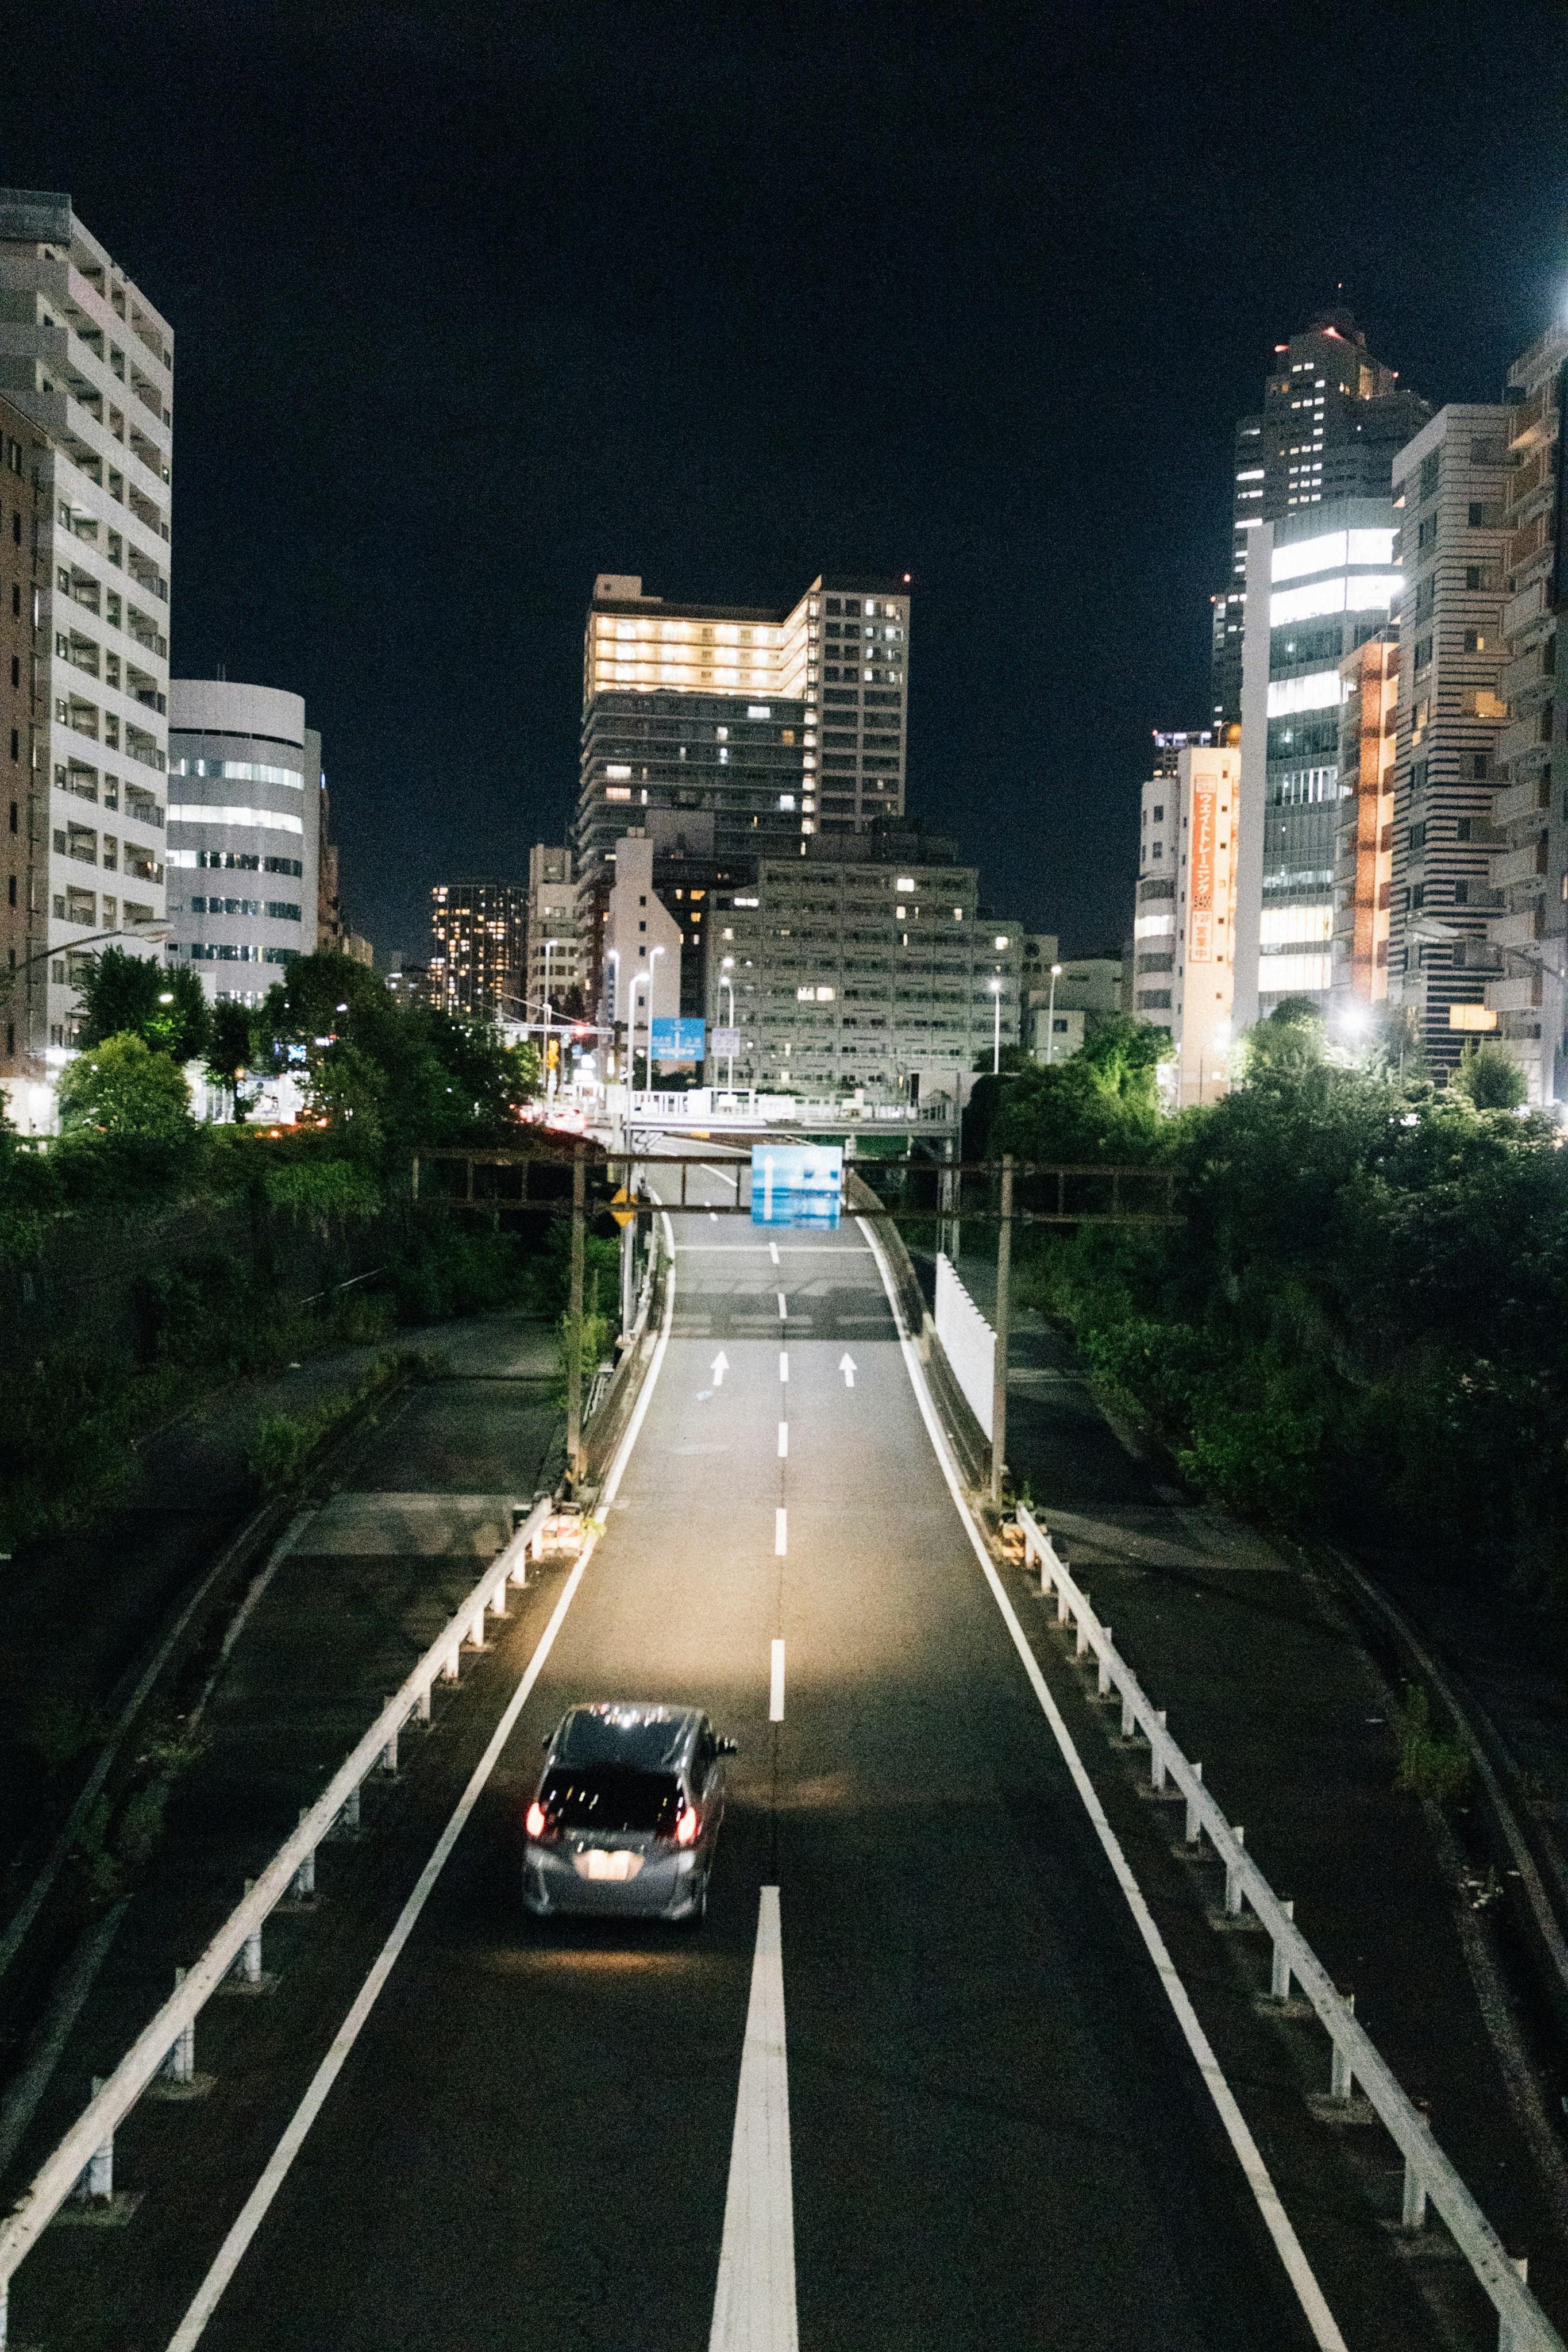Car: (524, 1702, 735, 1922)
